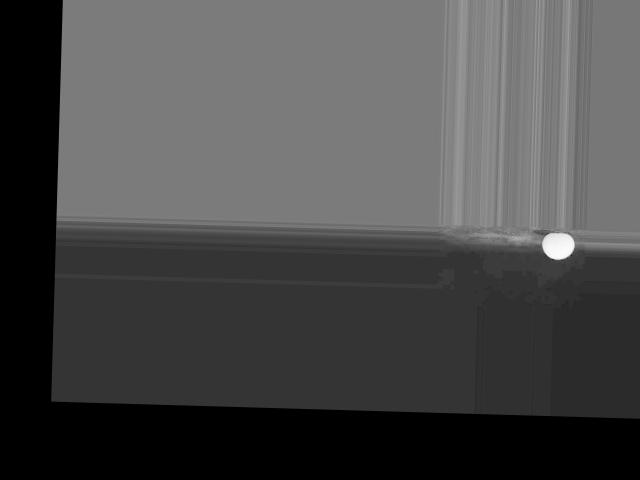egg: (541, 232, 574, 259)
